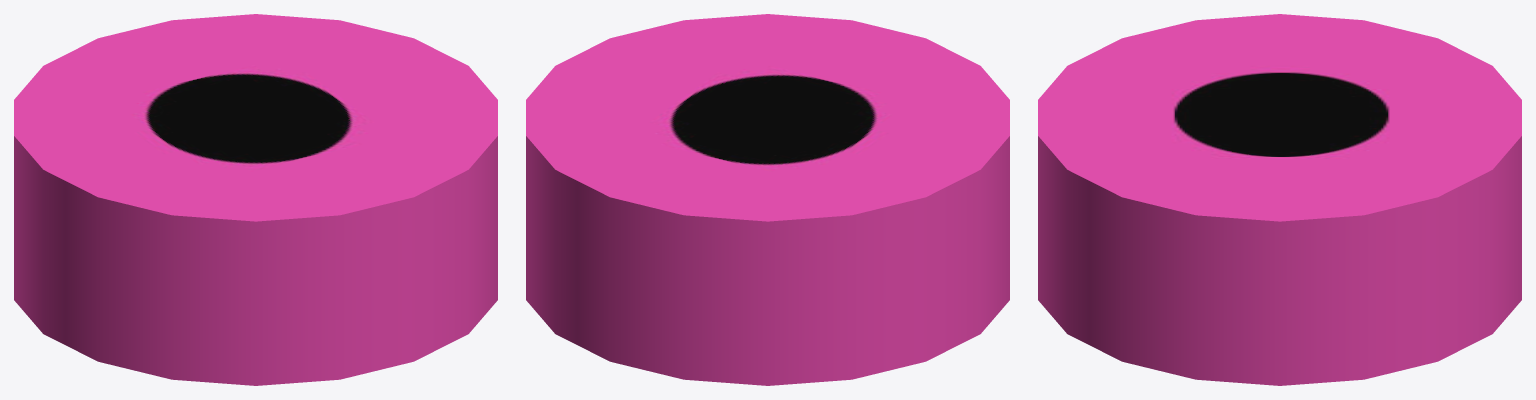
The model's file is round bassett.FBX.
The picture shows the model from 3 angles, left to right: view 1: azimuth 30°, elevation 25°; view 2: azimuth 150°, elevation 25°; view 3: azimuth 270°, elevation 25°; orthographic projection.
Visible parts, largest first — view 1: Cylinder001; view 2: Cylinder001; view 3: Cylinder001.
Boxes of the visible parts, box(x1,y1,x2,y2) form: Cylinder001: box(14, 14, 497, 385); Cylinder001: box(526, 14, 1009, 385); Cylinder001: box(1038, 14, 1521, 385).
Bounding box in the file's own units: 12.67 × 4.68 × 12.48.
Materials: 1 (1 with a texture image).
